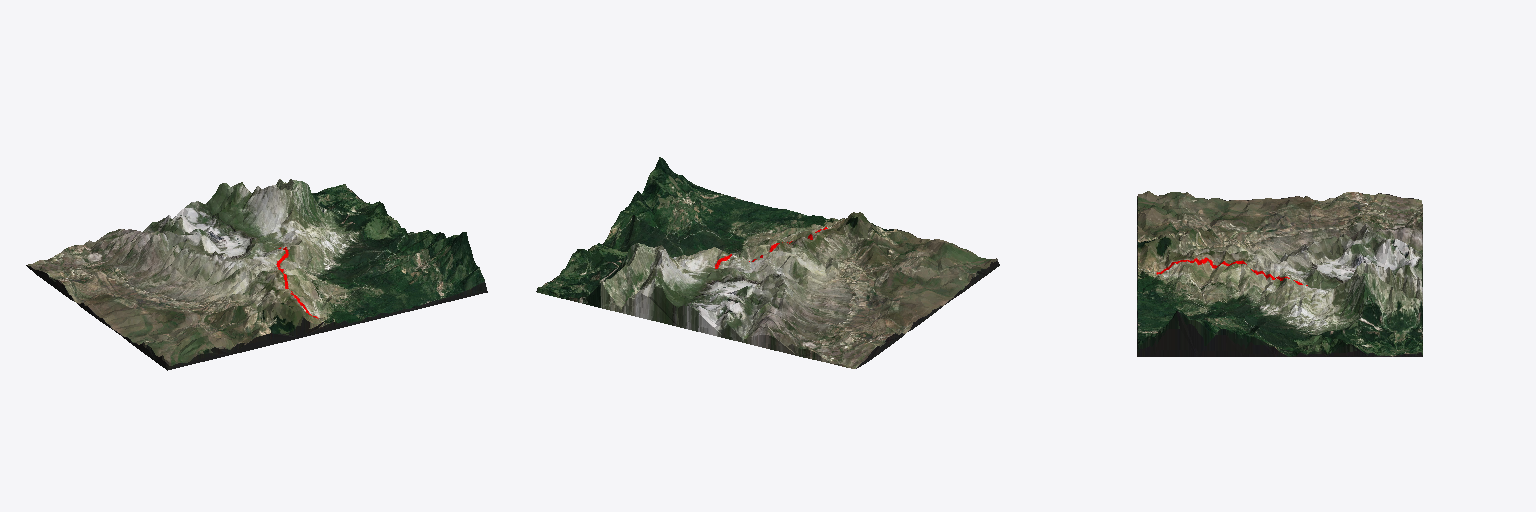
3 views of the same model, side by side, from view 1: azimuth 30°, elevation 25°; view 2: azimuth 150°, elevation 25°; view 3: azimuth 270°, elevation 25° (orthographic).
Parts seen in each view (by area): view 1: mountVector_theRealDeal; view 2: mountVector_theRealDeal; view 3: mountVector_theRealDeal.
Boxes of the visible parts, x1=… form: mountVector_theRealDeal: x1=26, y1=179, x2=487, y2=370; mountVector_theRealDeal: x1=536, y1=157, x2=999, y2=368; mountVector_theRealDeal: x1=1137, y1=191, x2=1422, y2=356.
Size of the model in its own units: 550 by 75.47 by 426.
Materials: 1 (1 with a texture image).